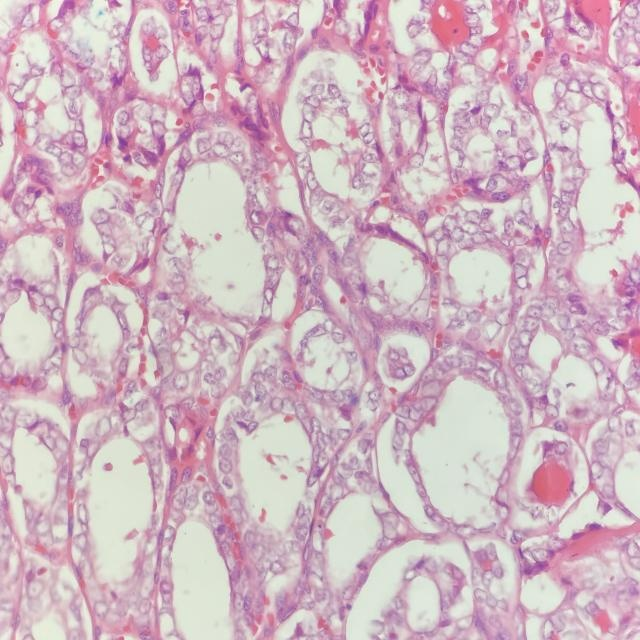TC: (398, 449, 430, 491), (299, 255, 332, 295), (285, 509, 320, 546), (89, 408, 118, 447), (426, 230, 462, 260), (328, 459, 359, 492), (178, 484, 206, 518), (278, 211, 314, 236), (417, 375, 446, 405), (259, 278, 286, 310), (266, 386, 292, 418), (23, 283, 47, 316), (170, 366, 196, 396), (513, 361, 539, 390), (261, 246, 287, 275), (361, 378, 390, 404), (513, 326, 541, 352), (328, 322, 351, 353), (0, 450, 23, 480), (483, 536, 506, 564), (213, 454, 238, 479), (163, 399, 185, 426), (403, 318, 428, 339)
